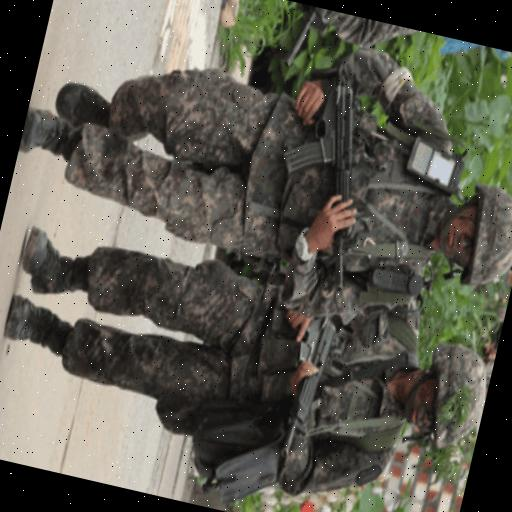korea army: (0, 0, 512, 360), (3, 0, 512, 354), (0, 209, 504, 512), (228, 274, 436, 500)
